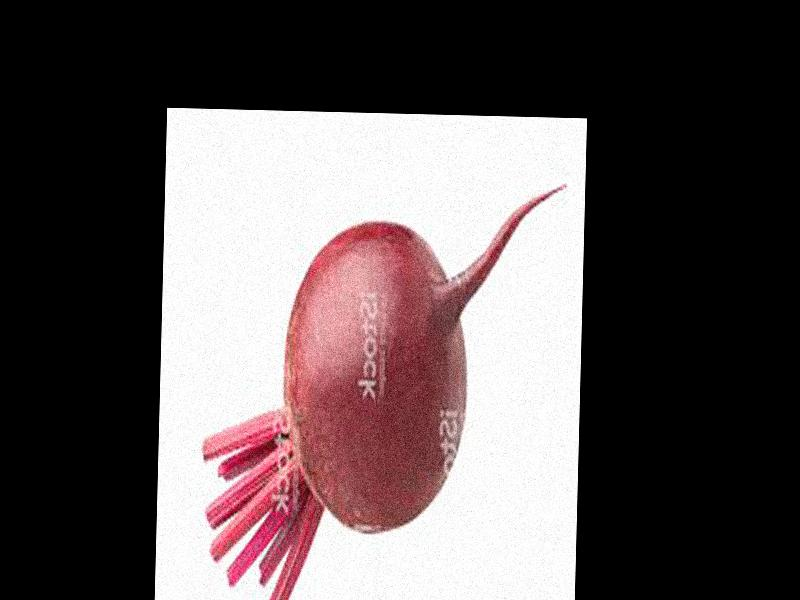Beet: (197, 173, 560, 600)
